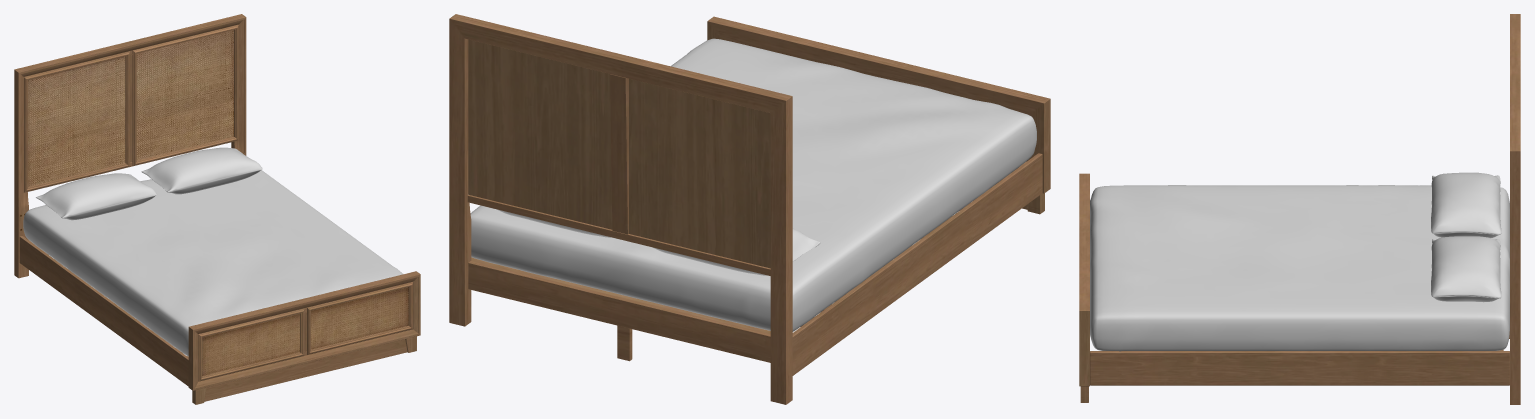
File: abo-B07B4ZFC57.glb
The picture shows the model from 3 angles, left to right: view 1: azimuth 30°, elevation 25°; view 2: azimuth 150°, elevation 25°; view 3: azimuth 270°, elevation 25°; orthographic projection. The views are drawn at different scales.
Bounding box in the file's own units: 1.61 × 1.39 × 2.18.
Materials: 1 (1 with a texture image).
